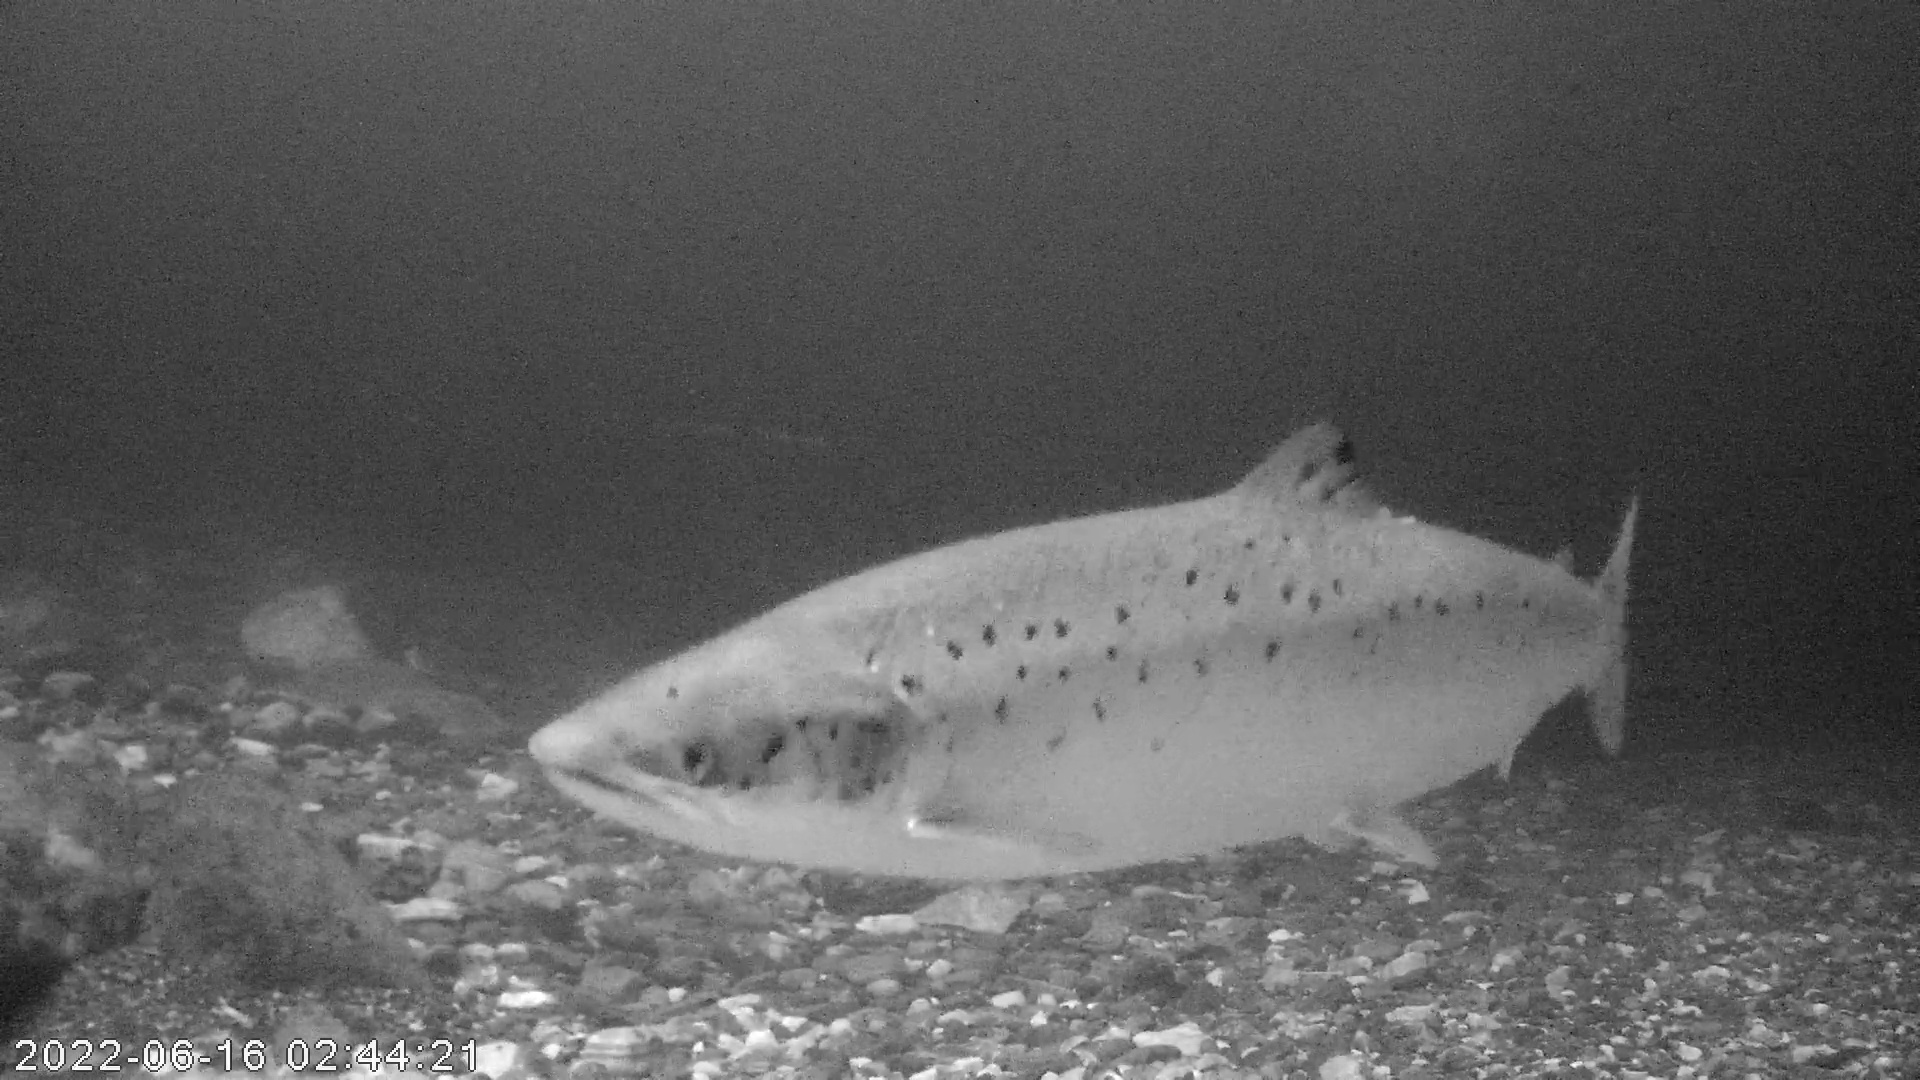salmon: (524, 417, 1640, 886)
